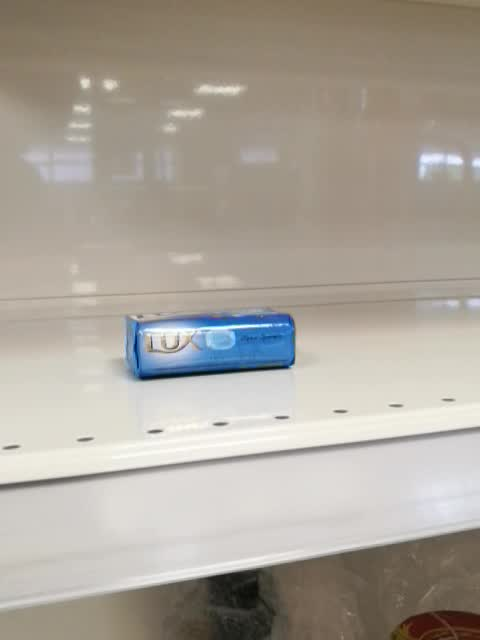soap: (125, 307, 297, 382)
